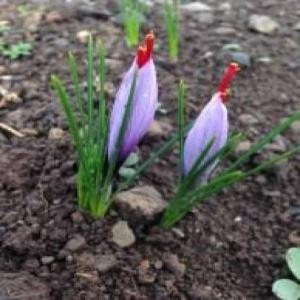Saffron: (105, 47, 157, 190), (182, 88, 228, 202)
